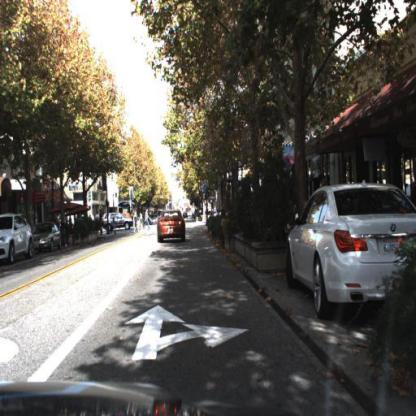car: (286, 177, 415, 323), (283, 181, 416, 321), (1, 212, 35, 268), (1, 212, 39, 262), (157, 209, 187, 245), (37, 222, 62, 254), (102, 212, 133, 232), (121, 211, 135, 221)
pedestrian: (144, 208, 153, 233), (134, 211, 142, 235), (319, 176, 332, 188), (144, 209, 150, 232), (112, 214, 117, 236)
